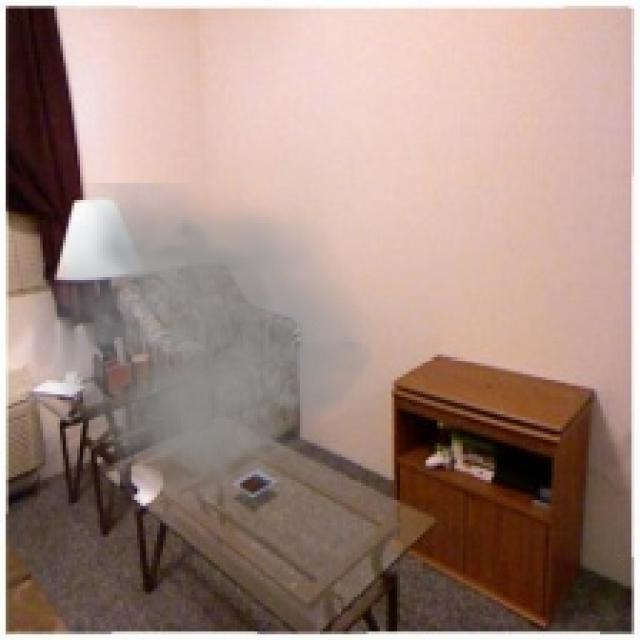Smoke: (9, 183, 392, 540)
